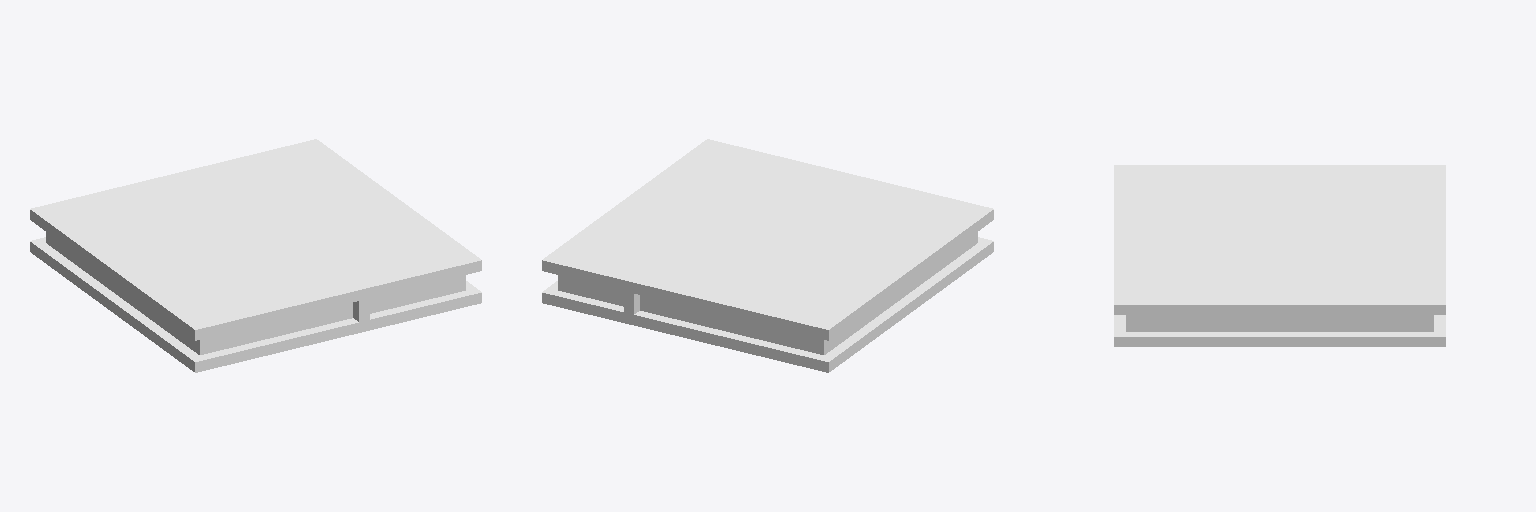
Rendered from GDS2_Construction-1.obj.
3 views of the same model, side by side, from view 1: azimuth 30°, elevation 25°; view 2: azimuth 150°, elevation 25°; view 3: azimuth 270°, elevation 25° (orthographic).
Visible parts, largest first — view 1: GDS2_Construction-1; view 2: GDS2_Construction-1; view 3: GDS2_Construction-1.
Boxes of the visible parts, box(x1,y1,x2,y2) form: GDS2_Construction-1: box(30, 139, 481, 372); GDS2_Construction-1: box(542, 139, 993, 372); GDS2_Construction-1: box(1114, 165, 1445, 346).
Size of the model in its own units: 2.8 by 0.4 by 2.8.